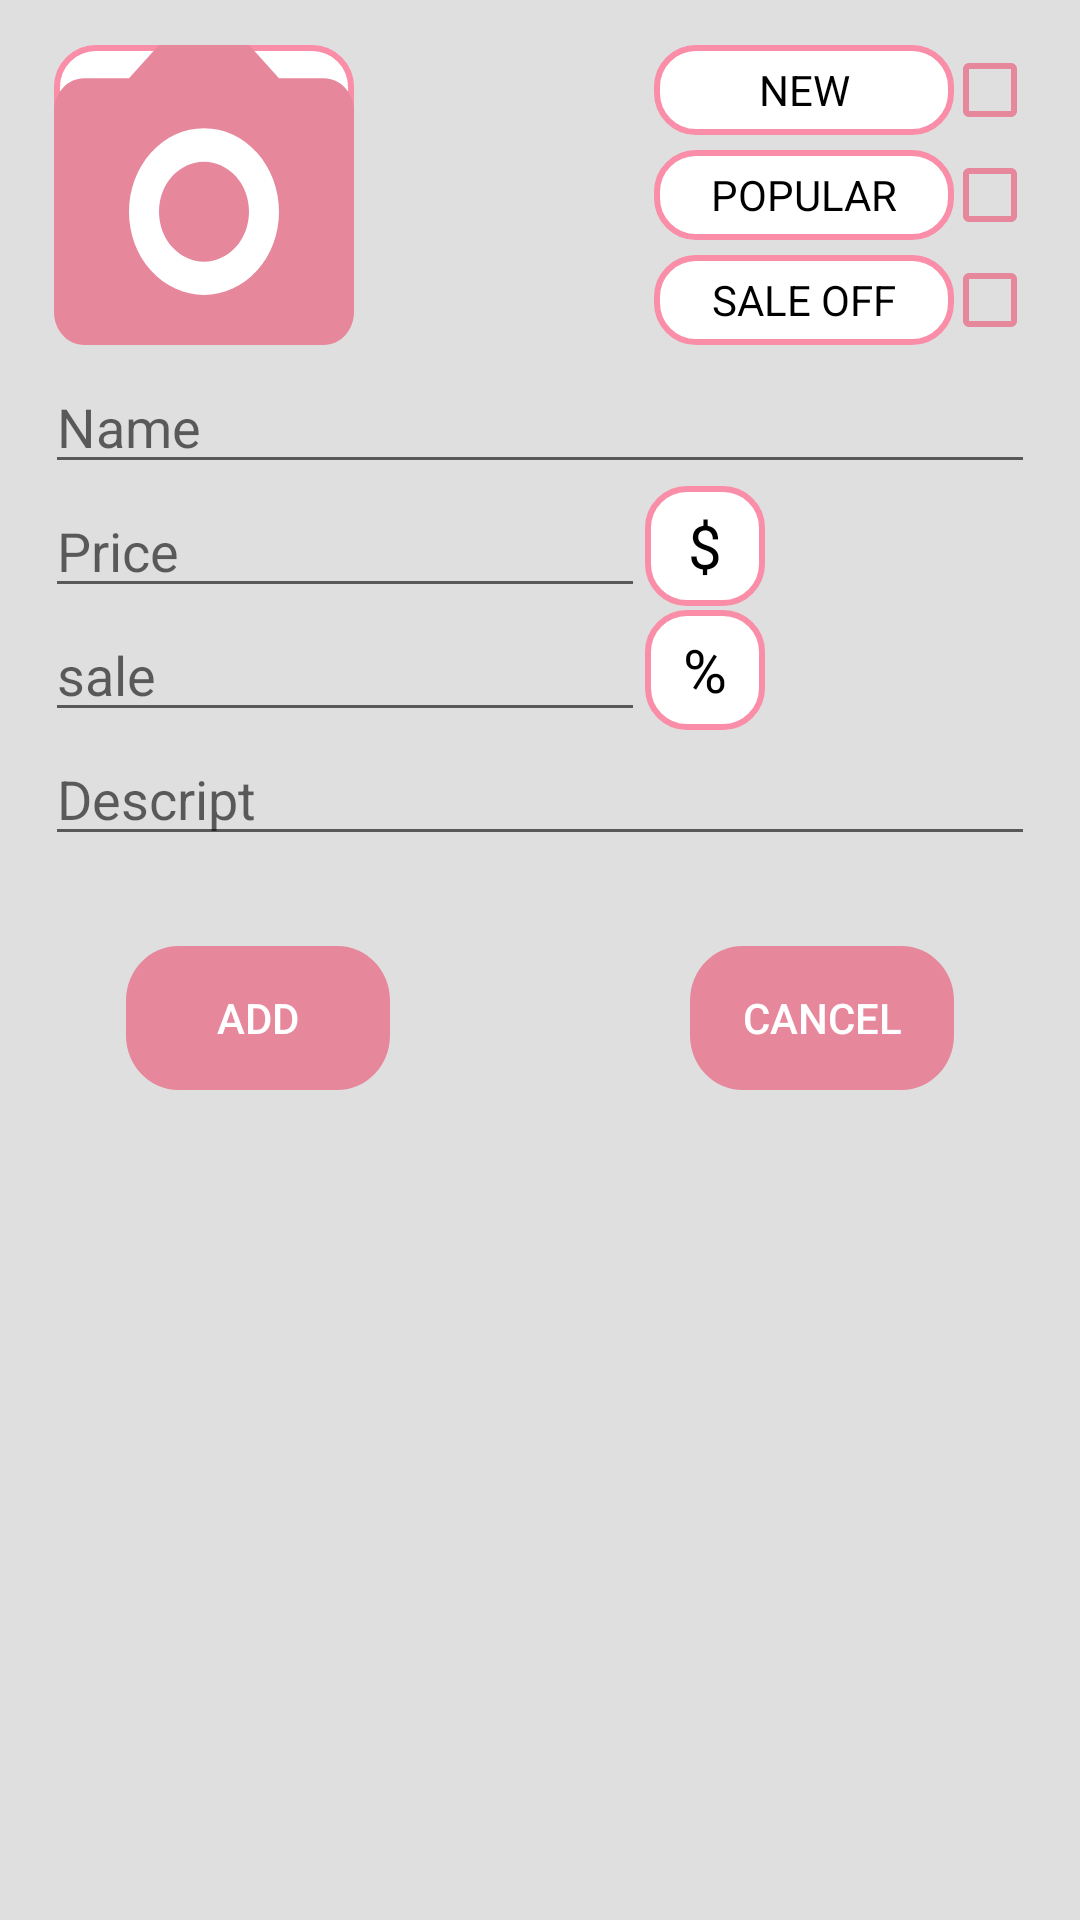

Icons on this 1080px x 1920px Android screen, each with the point to tap as [x,y]:
camera: [204,195]
udt checkbox: [990,90], [990,195], [990,300]
